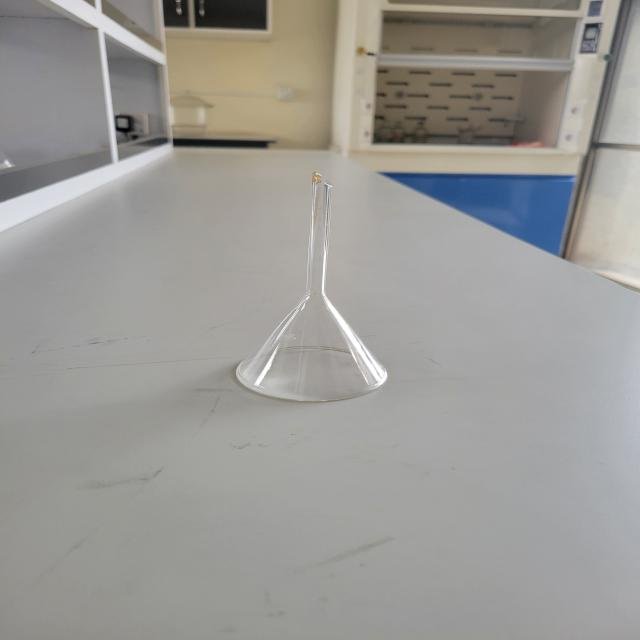Funnel: (197, 143, 455, 440)
